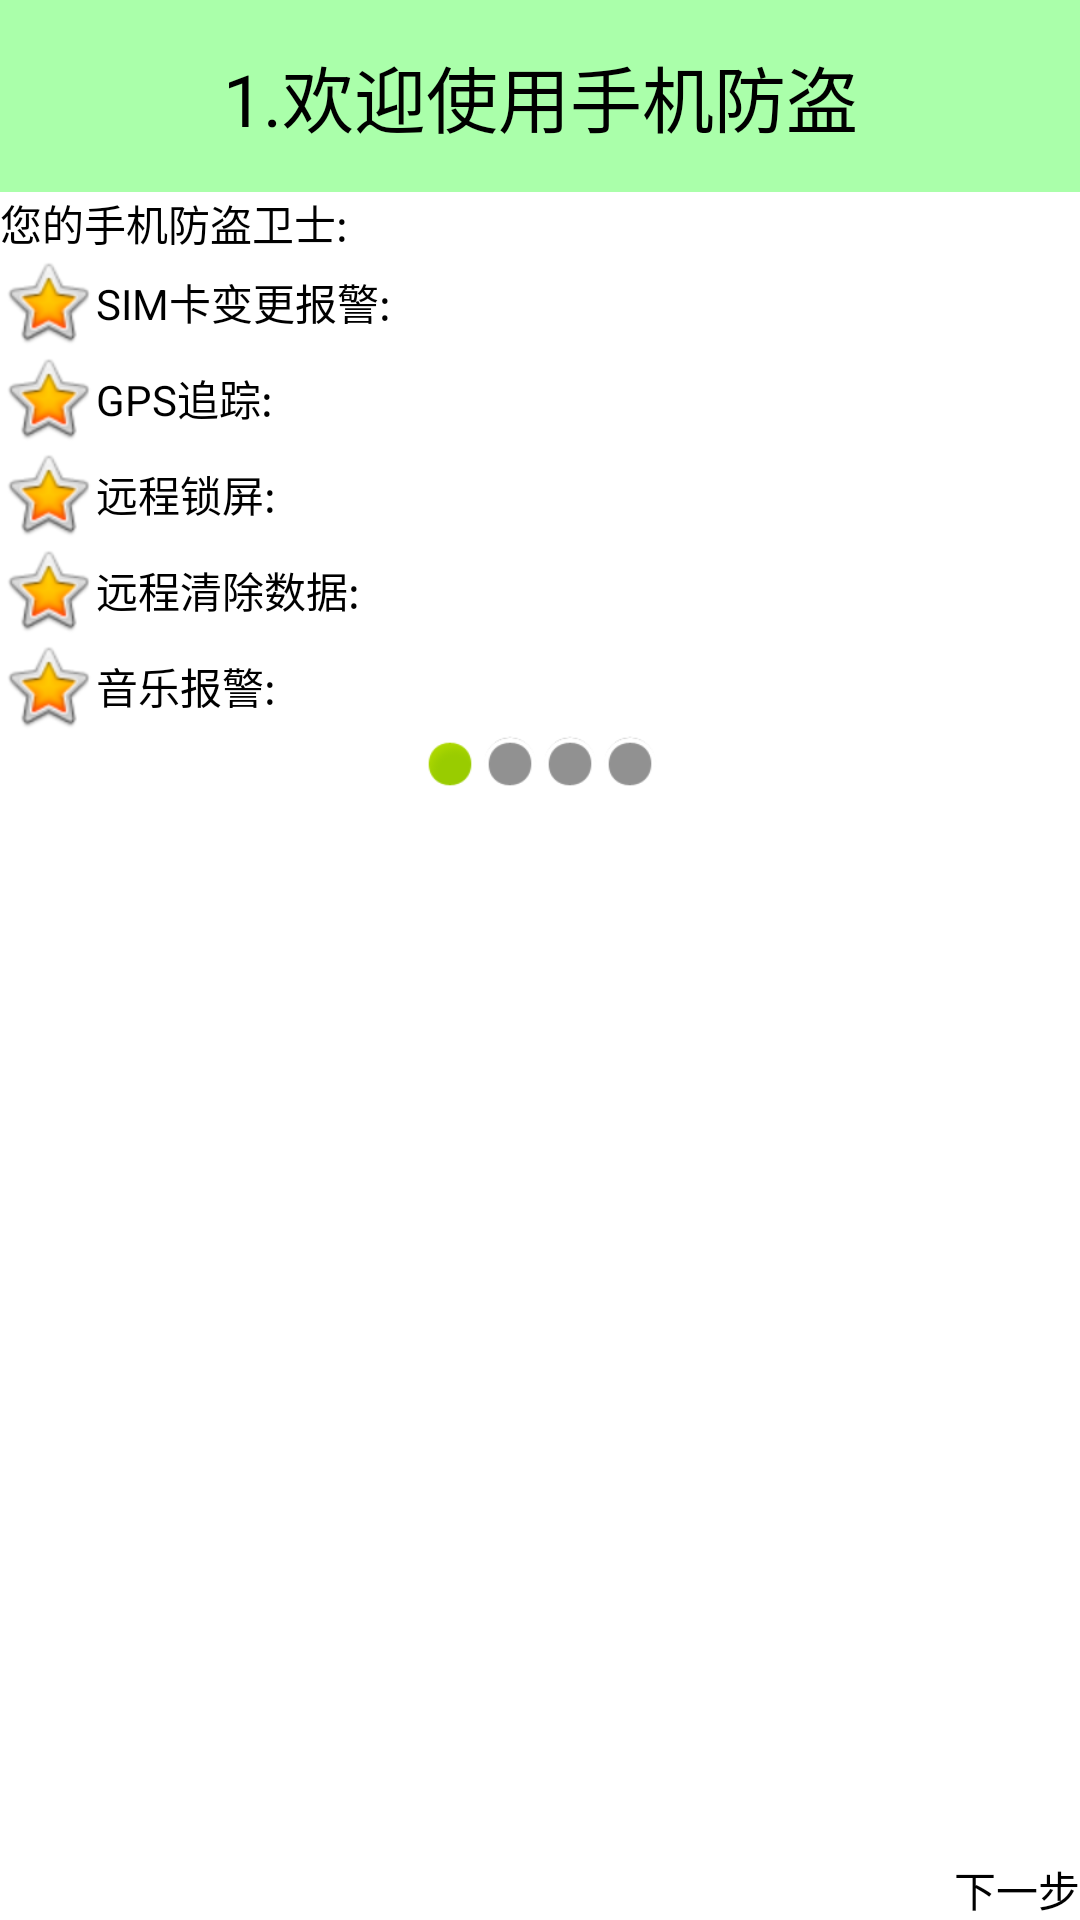

Locate icon controls on the screen. Image size 1080 × 1920, boxes as (x1=x1, y1=y1, x2=x2, y2=y2).
presence invisible: (x1=488, y1=738, x2=532, y2=786), (x1=548, y1=738, x2=592, y2=786), (x1=608, y1=738, x2=652, y2=786)
presence online: (x1=428, y1=742, x2=472, y2=786)
